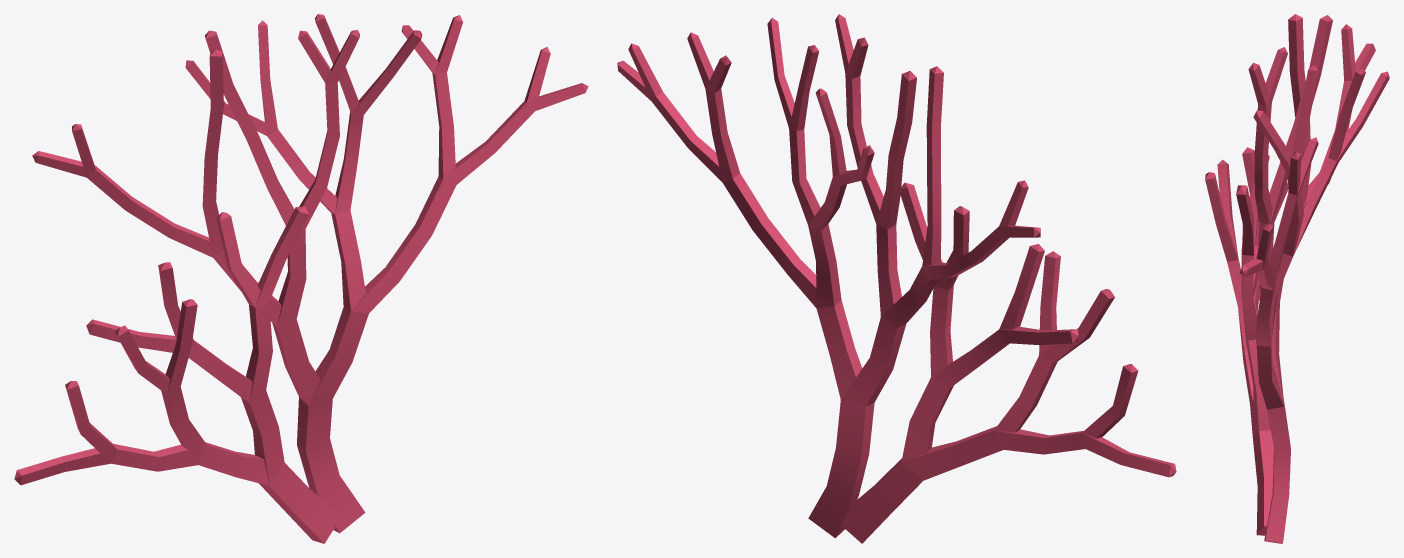
The model's file is coral_D_light.fbx.
3 views of the same model, side by side, from view 1: azimuth 30°, elevation 25°; view 2: azimuth 150°, elevation 25°; view 3: azimuth 270°, elevation 25° (orthographic). The views are drawn at different scales.
Visible parts, largest first — view 1: coral_D_light; view 2: coral_D_light; view 3: coral_D_light.
Boxes of the visible parts, x1,y1,x2,y2 form: coral_D_light: (14,14,588,543); coral_D_light: (617,14,1176,543); coral_D_light: (1205,14,1389,543).
Bounding box in the file's own units: 182 × 157 × 53.81.
